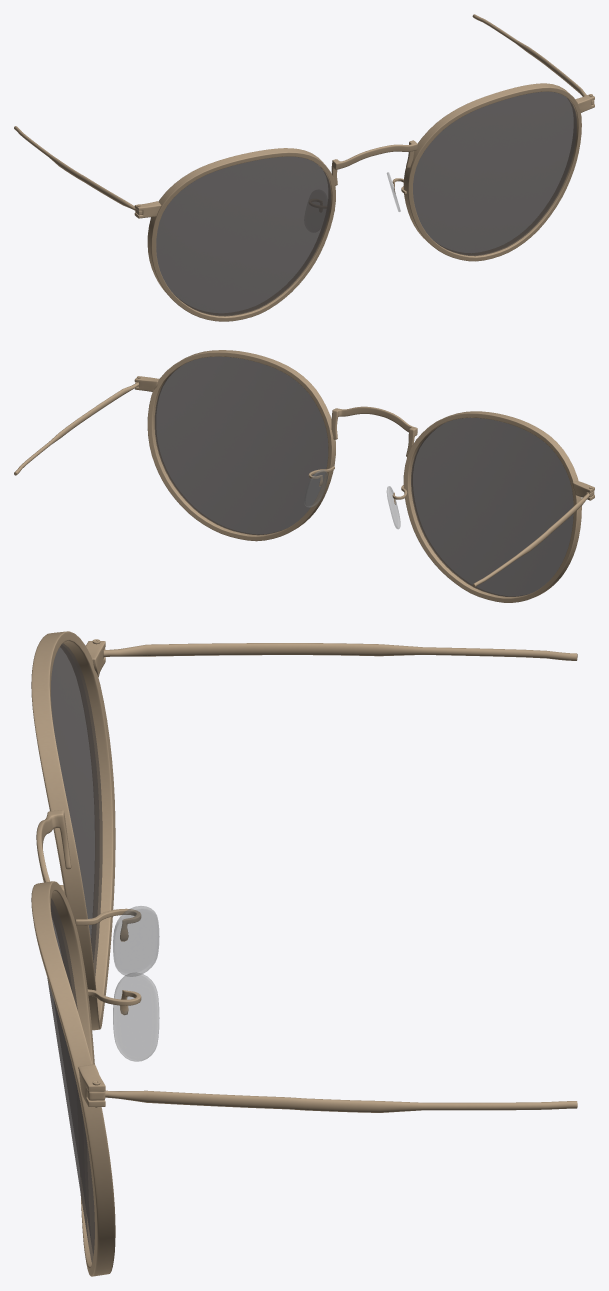
File: round_app.glb
The picture shows the model from 3 angles, top to bottom: view 1: azimuth 30°, elevation 25°; view 2: azimuth 150°, elevation 25°; view 3: azimuth 270°, elevation 25°; orthographic projection. The views are drawn at different scales.
Visible parts, largest first — view 1: lentes, armacao; view 2: lentes, armacao, ponte; view 3: armacao, lentes, ponte.
Boxes of the visible parts, x1,y1,x2,y2 form: lentes: [156, 91, 576, 316]; armacao: [14, 14, 594, 321]; lentes: [154, 356, 573, 596]; armacao: [14, 350, 594, 602]; ponte: [304, 470, 400, 529]; armacao: [31, 631, 577, 1276]; lentes: [47, 643, 102, 1262]; ponte: [113, 906, 159, 1061].
Size of the model in its own units: 0.1575 by 0.0555 by 0.079.
Materials: 3 (3 with a texture image).
